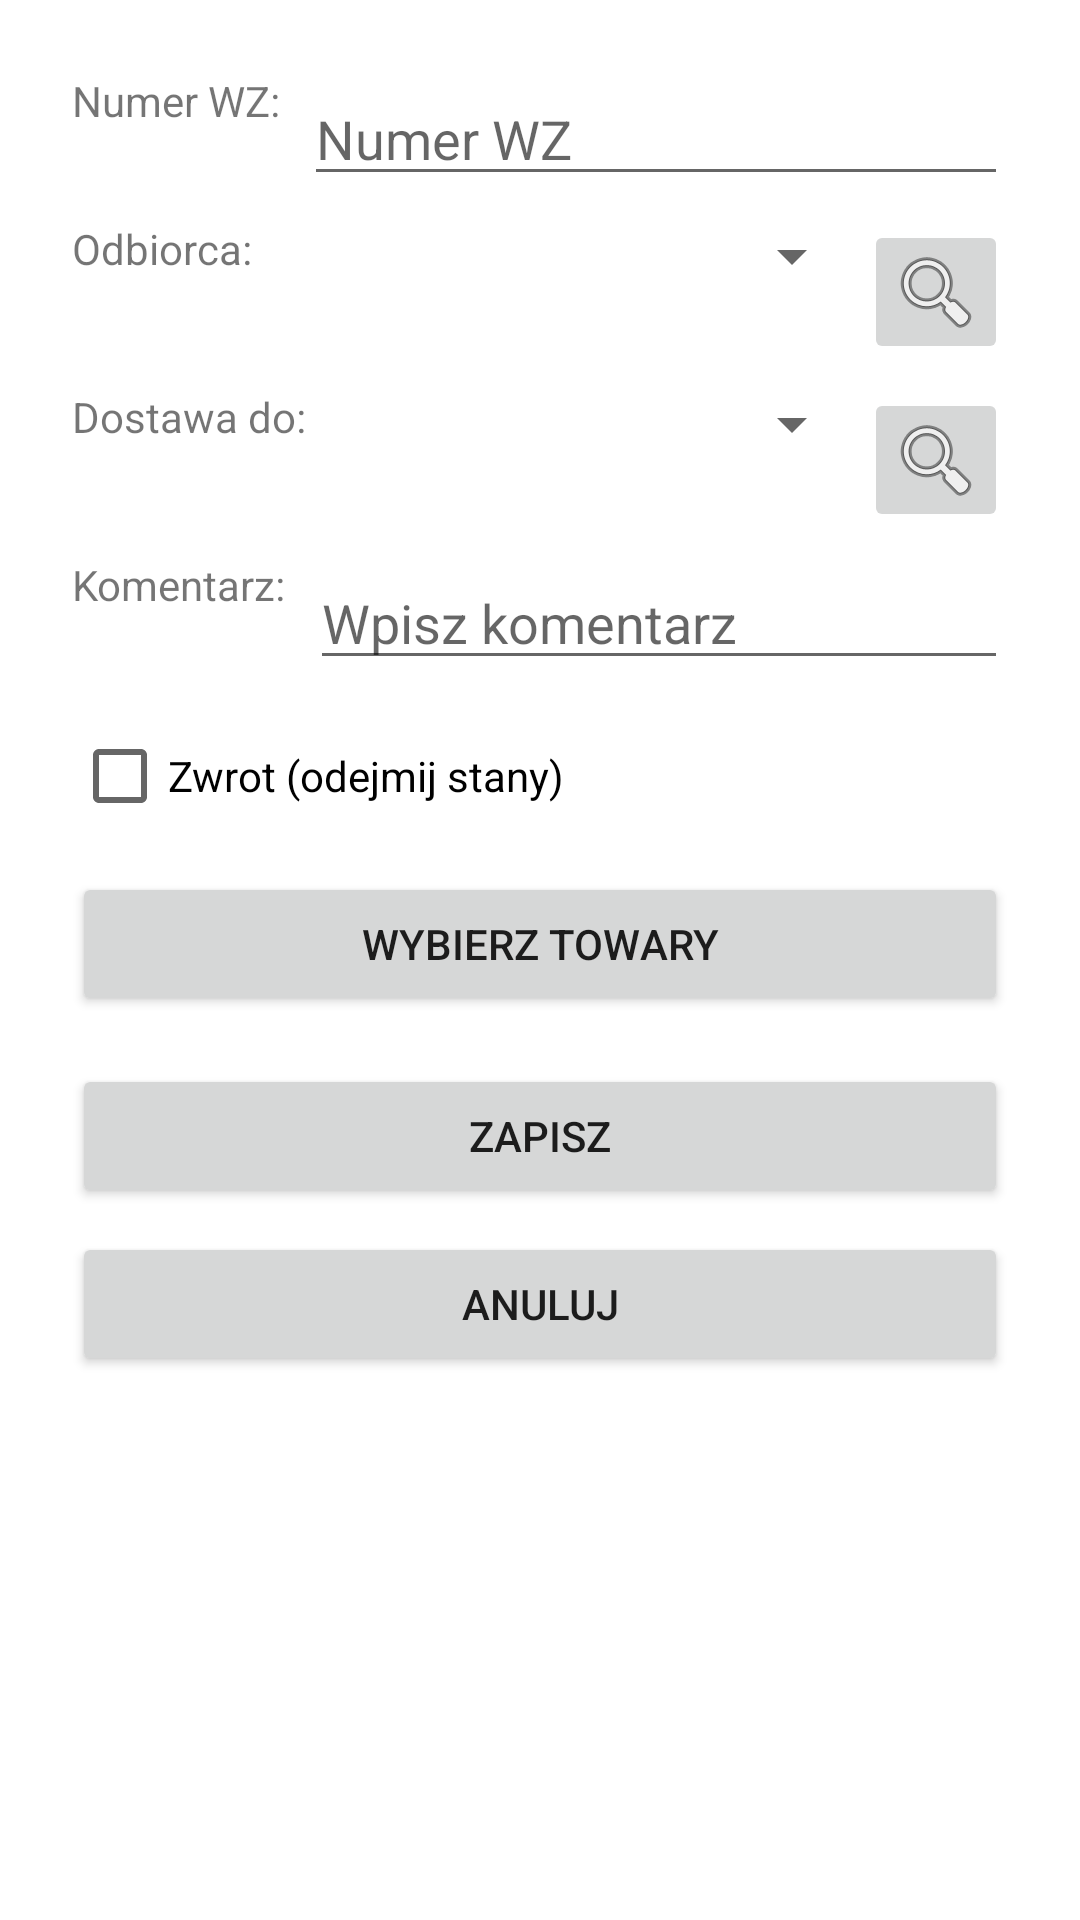

Screen size 1080×1920. Icon name, then its center in pixels as (x=x, y=y):
Wybierz dostawcę: (x=936, y=460)
Wybierz odbiorcę: (x=936, y=292)
